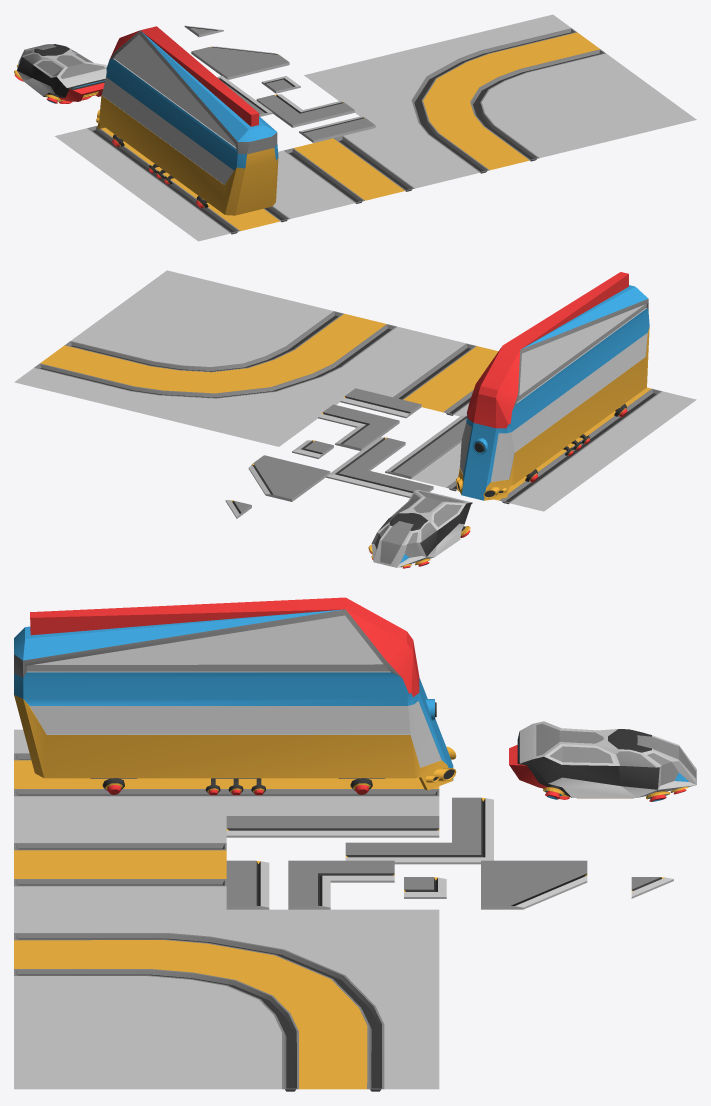
The model's file is CitySpecial00.FBX.
3 renders of one model, top to bottom at view 1: azimuth 30°, elevation 25°; view 2: azimuth 150°, elevation 25°; view 3: azimuth 270°, elevation 25°, orthographic. The views are drawn at different scales.
Visible parts, largest first — view 1: CityTerrain_Rail_10x10, CityTerrain_Rail_10x011, CityTerrain_Rail_5x5, CityTerrain_Rail_10x5, Box076, CityTerrain_Sidewalk_2.008, CityTerrain_Sidewalk_2.006, CityTerrain_Sidewalk_2.5, CityTerrain_Sidewalk_Corner1, CityTerrain_Sidewalk_2.007; view 2: CityTerrain_Rail_10x10, CityTerrain_Rail_10x011, CityTerrain_Rail_10x5, CityTerrain_Rail_5x5, Box076, CityTerrain_Sidewalk_Corner1, CityTerrain_Sidewalk_2.008, CityTerrain_Sidewalk_2.006, CityTerrain_Sidewalk_5, CityTerrain_Sidewalk_2.5, CityTerrain_Sidewalk_2.007; view 3: CityTerrain_Rail_10x10, CityTerrain_Rail_10x011, CityTerrain_Rail_5x5, CityTerrain_Rail_10x5, Box076, CityTerrain_Sidewalk_Corner1, CityTerrain_Sidewalk_5, CityTerrain_Sidewalk_2.008, CityTerrain_Sidewalk_2.006, CityTerrain_Sidewalk_2.5, CityTerrain_Sidewalk_2.007.
Boxes of the visible parts, x1=… form: CityTerrain_Rail_10x10: x1=304, y1=14, x2=696, y2=180; CityTerrain_Rail_10x011: x1=96, y1=26, x2=278, y2=215; CityTerrain_Rail_5x5: x1=277, y1=128, x2=446, y2=210; CityTerrain_Rail_10x5: x1=54, y1=125, x2=322, y2=241; Box076: x1=14, y1=44, x2=106, y2=103; CityTerrain_Sidewalk_2.008: x1=191, y1=46, x2=289, y2=79; CityTerrain_Sidewalk_2.006: x1=256, y1=94, x2=354, y2=127; CityTerrain_Sidewalk_2.5: x1=299, y1=116, x2=375, y2=142; CityTerrain_Sidewalk_Corner1: x1=217, y1=76, x2=272, y2=116; CityTerrain_Sidewalk_2.007: x1=261, y1=76, x2=300, y2=93; CityTerrain_Rail_10x10: x1=14, y1=270, x2=431, y2=446; CityTerrain_Rail_10x011: x1=456, y1=272, x2=649, y2=500; CityTerrain_Rail_10x5: x1=412, y1=387, x2=696, y2=511; CityTerrain_Rail_5x5: x1=358, y1=335, x2=498, y2=416; Box076: x1=368, y1=490, x2=472, y2=568; CityTerrain_Sidewalk_Corner1: x1=326, y1=437, x2=433, y2=497; CityTerrain_Sidewalk_2.008: x1=248, y1=455, x2=330, y2=501; CityTerrain_Sidewalk_2.006: x1=318, y1=404, x2=399, y2=450; CityTerrain_Sidewalk_5: x1=385, y1=415, x2=466, y2=478; CityTerrain_Sidewalk_2.5: x1=340, y1=388, x2=421, y2=418; CityTerrain_Sidewalk_2.007: x1=292, y1=440, x2=333, y2=458; CityTerrain_Rail_10x10: x1=14, y1=909, x2=439, y2=1091; CityTerrain_Rail_10x011: x1=14, y1=597, x2=456, y2=790; CityTerrain_Rail_5x5: x1=14, y1=819, x2=226, y2=909; CityTerrain_Rail_10x5: x1=14, y1=729, x2=439, y2=819; Box076: x1=509, y1=721, x2=696, y2=801; CityTerrain_Sidewalk_Corner1: x1=345, y1=797, x2=493, y2=864; CityTerrain_Sidewalk_5: x1=226, y1=816, x2=439, y2=837; CityTerrain_Sidewalk_2.008: x1=481, y1=860, x2=587, y2=909; CityTerrain_Sidewalk_2.006: x1=288, y1=860, x2=394, y2=909; CityTerrain_Sidewalk_2.5: x1=226, y1=860, x2=269, y2=909; CityTerrain_Sidewalk_2.007: x1=404, y1=877, x2=446, y2=898.
Size of the model in its own units: 200 by 48.8 by 161.
